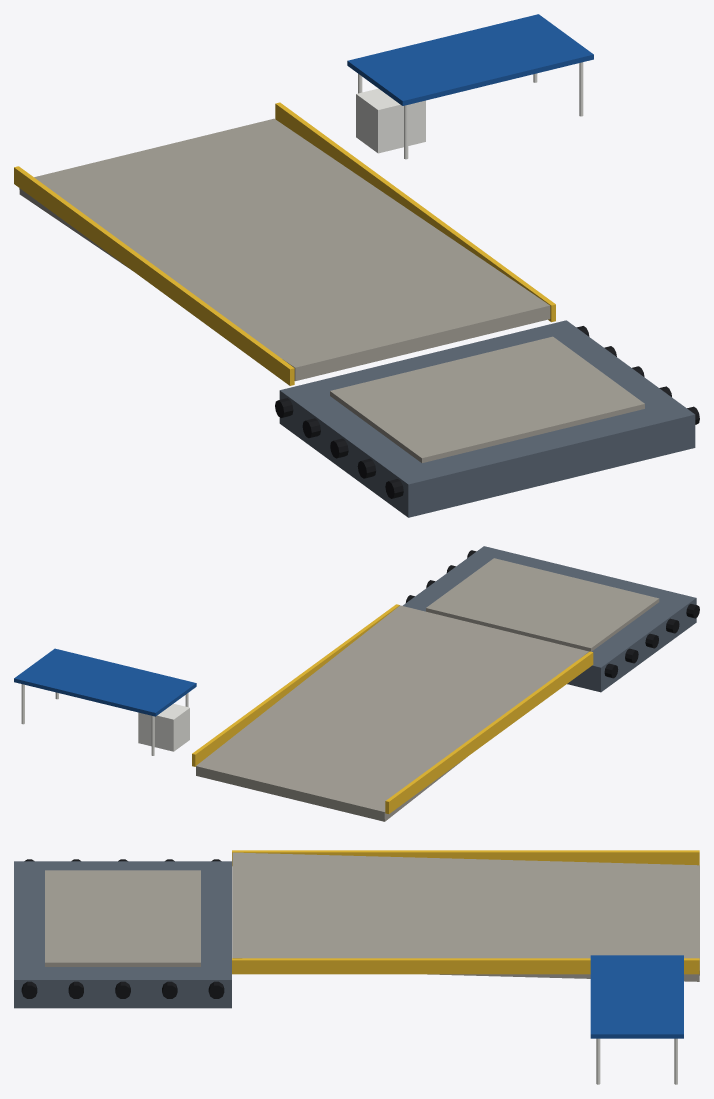
Rendered from ferry_landing.glb.
3 renders of one model, top to bottom at view 1: azimuth 30°, elevation 25°; view 2: azimuth 150°, elevation 25°; view 3: azimuth 270°, elevation 25°, orthographic. The views are drawn at different scales.
Visible parts, largest first — view 1: landing; view 2: landing; view 3: landing.
Part boxes in pixels (left/top/right/bottom): landing: left=14, top=14, right=699, bottom=517; landing: left=14, top=546, right=699, bottom=821; landing: left=14, top=850, right=699, bottom=1084.
Bounding box in the file's own units: 33.58 × 5.15 × 44.02.
